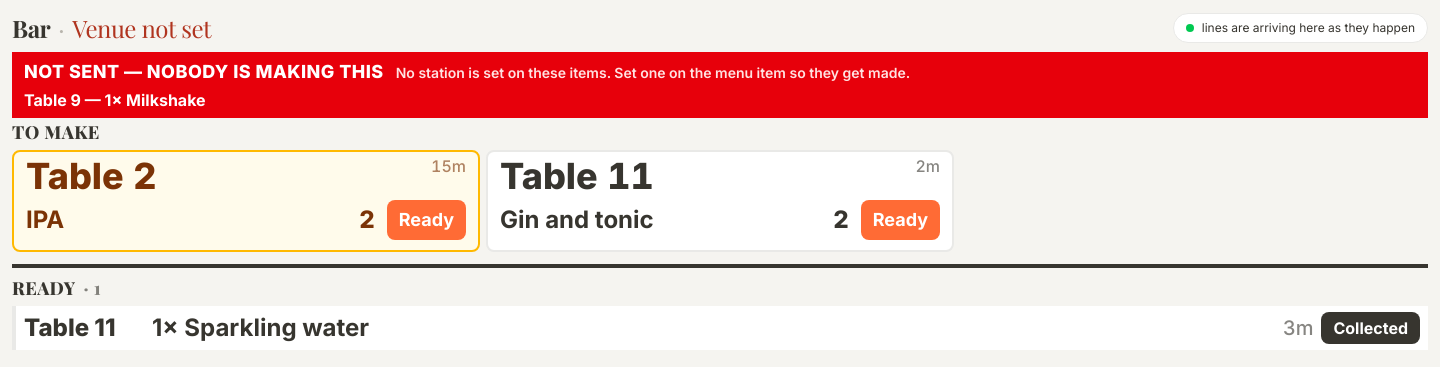
Test: BarScreen — collected-must-be-recoverable (the one ruling changed from the proposal) › tapping Undo re-bumps to "out" (ready) and, on success, the row goes back to being server-sourced
This screenshot has width=1440, height=367.
Step 1. Click the button "Collected" → (1371, 328), box [1321,312,1420,344]
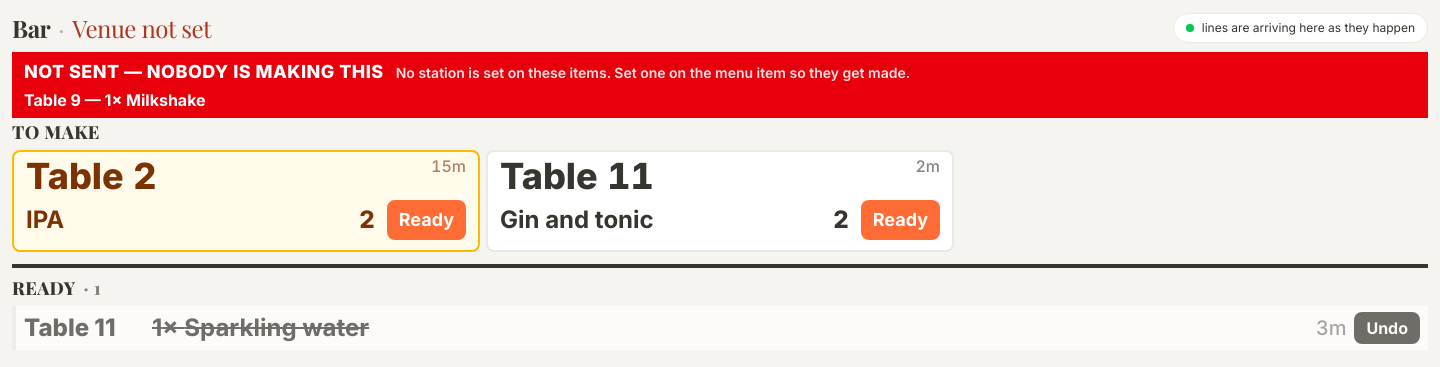
Step 2. Click the button with test id "dispatch-row-undo" → (1387, 328), box [1354,312,1420,344]
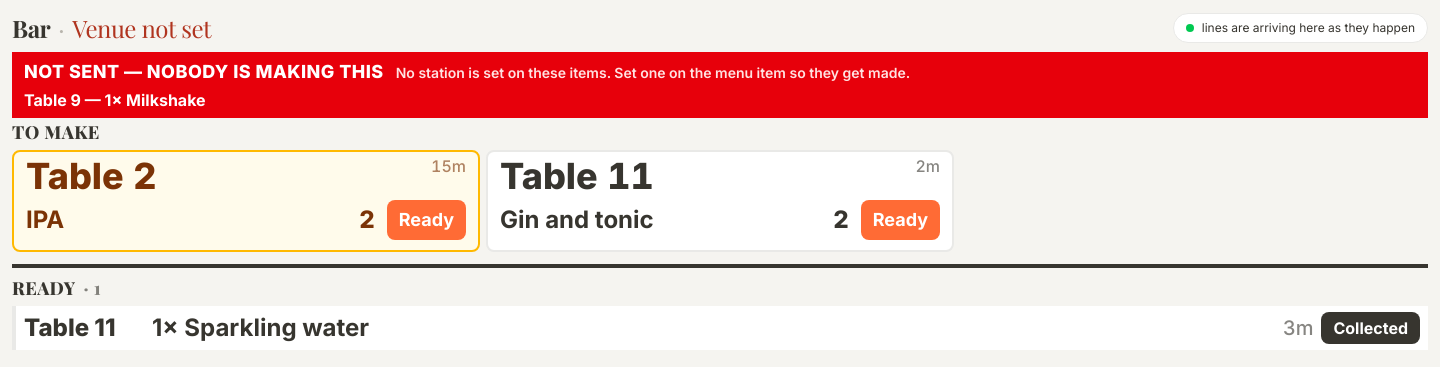
Check: the button with test id "dispatch-row-undo" is gone
Check: the button "Collected" is shown, box [1321,312,1420,344]
